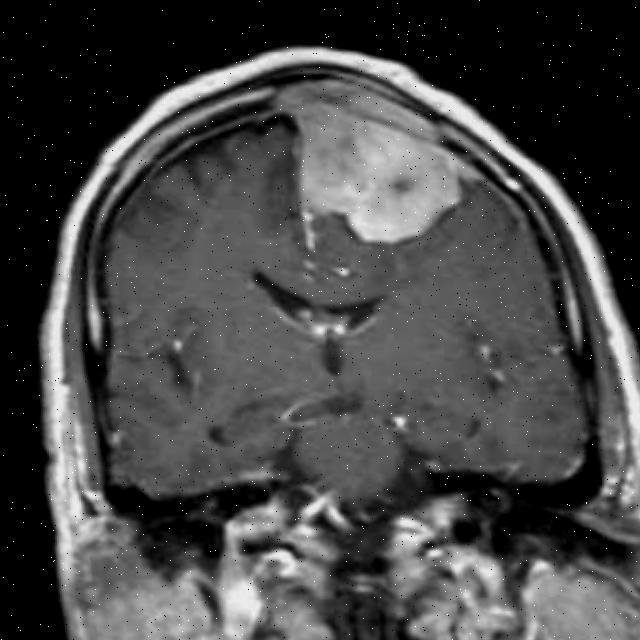Meningioma: (270, 63, 489, 257)
